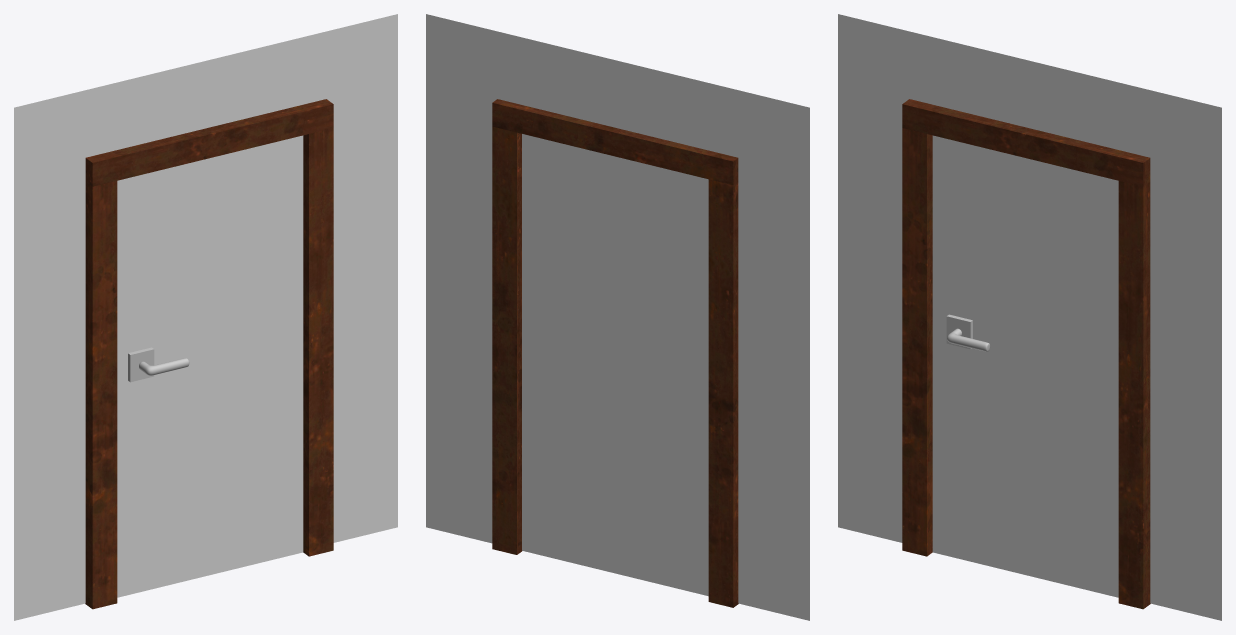
File: Door.fbx
3 renders of one model, left to right at view 1: azimuth 30°, elevation 25°; view 2: azimuth 150°, elevation 25°; view 3: azimuth 330°, elevation 25°, orthographic.
Visible parts, largest first — view 1: Back Wall, Door, Door Frame, Handle; view 2: Back Wall, Door Frame; view 3: Back Wall, Door, Door Frame, Handle.
Boxes of the visible parts, <box> form: Back Wall: <box>14,14,397,620</box>; Door: <box>117,135,303,597</box>; Door Frame: <box>85,99,333,609</box>; Handle: <box>128,347,154,382</box>; Back Wall: <box>426,14,809,620</box>; Door Frame: <box>492,99,738,607</box>; Back Wall: <box>838,14,1221,620</box>; Door: <box>932,135,1118,597</box>; Door Frame: <box>902,99,1150,609</box>; Handle: <box>946,314,972,349</box>.
Bounding box in the file's own units: 1.8 × 2.3 × 0.1527.
